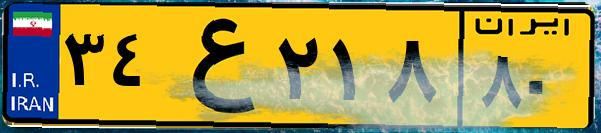0: (525, 38, 570, 115)
1: (330, 28, 385, 110)
2: (270, 28, 330, 110)
3: (57, 26, 110, 100)
4: (110, 28, 158, 98)
8: (385, 28, 445, 110), (475, 38, 525, 113)
ع: (158, 12, 270, 120)
